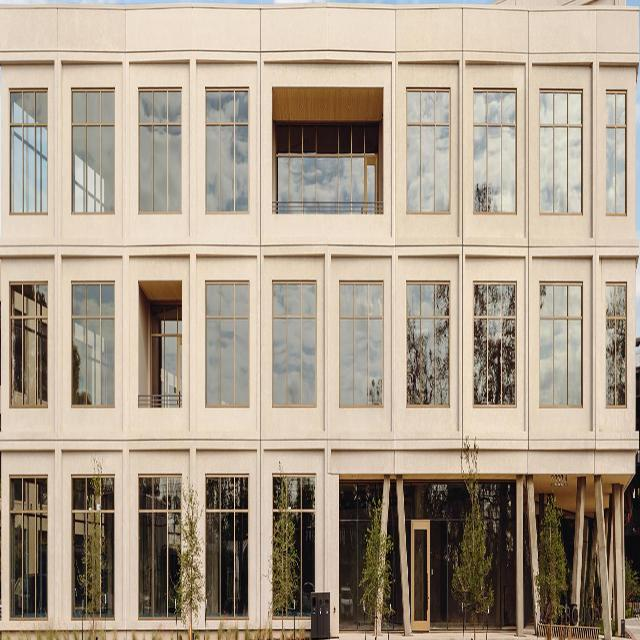Railing: (272, 199, 383, 215), (137, 394, 183, 407)
door: (412, 516, 431, 632)
plant: (453, 476, 494, 639), (262, 460, 300, 613), (170, 481, 205, 628), (356, 499, 396, 623), (76, 460, 106, 614), (535, 491, 565, 639)
wall: (0, 0, 640, 633)
windows: (339, 480, 516, 632), (276, 118, 380, 198), (268, 474, 314, 614), (204, 476, 248, 622), (71, 474, 115, 619), (71, 474, 115, 619), (136, 478, 182, 615), (203, 282, 250, 406), (203, 86, 249, 212), (538, 274, 584, 400), (70, 90, 116, 215), (406, 92, 452, 217), (404, 279, 450, 404), (338, 282, 384, 407), (70, 281, 116, 406), (539, 88, 585, 212), (9, 472, 48, 614), (9, 472, 48, 614), (272, 280, 315, 402), (139, 89, 181, 212), (475, 90, 517, 213), (473, 278, 515, 400), (8, 90, 48, 217), (8, 281, 48, 408), (151, 301, 182, 392), (606, 90, 626, 216), (606, 283, 626, 409)
